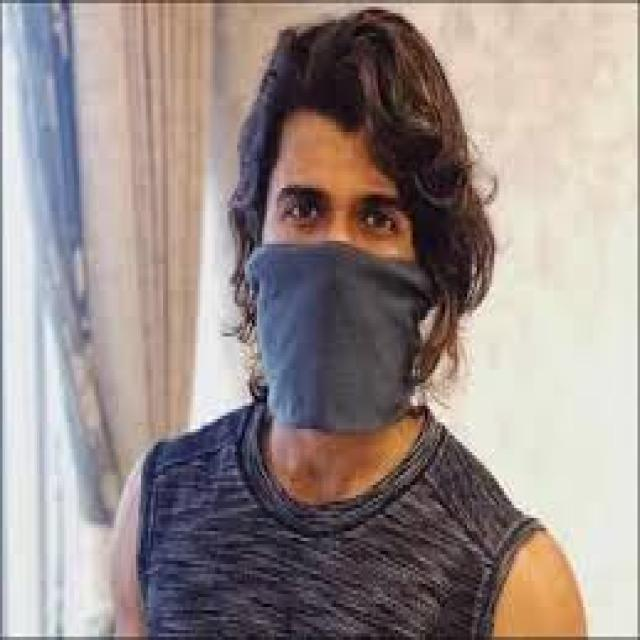person-with-mask: (5, 0, 639, 640)
